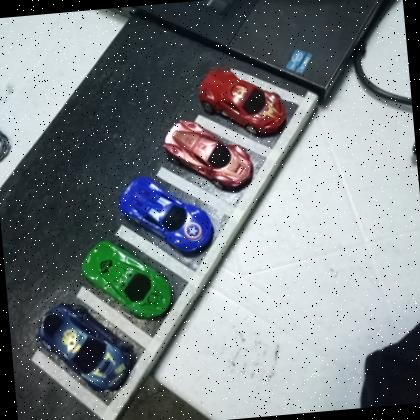Car: (33, 296, 136, 398), (78, 232, 176, 325), (115, 169, 216, 259), (158, 113, 256, 195), (194, 59, 289, 140)
